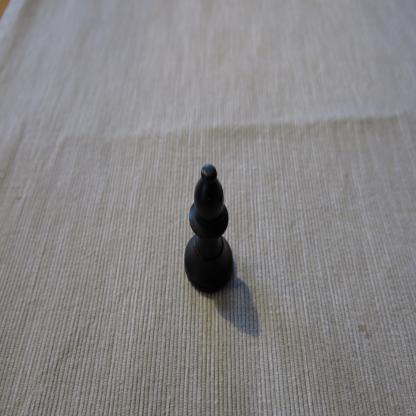black-bishop: (184, 164, 234, 294)
